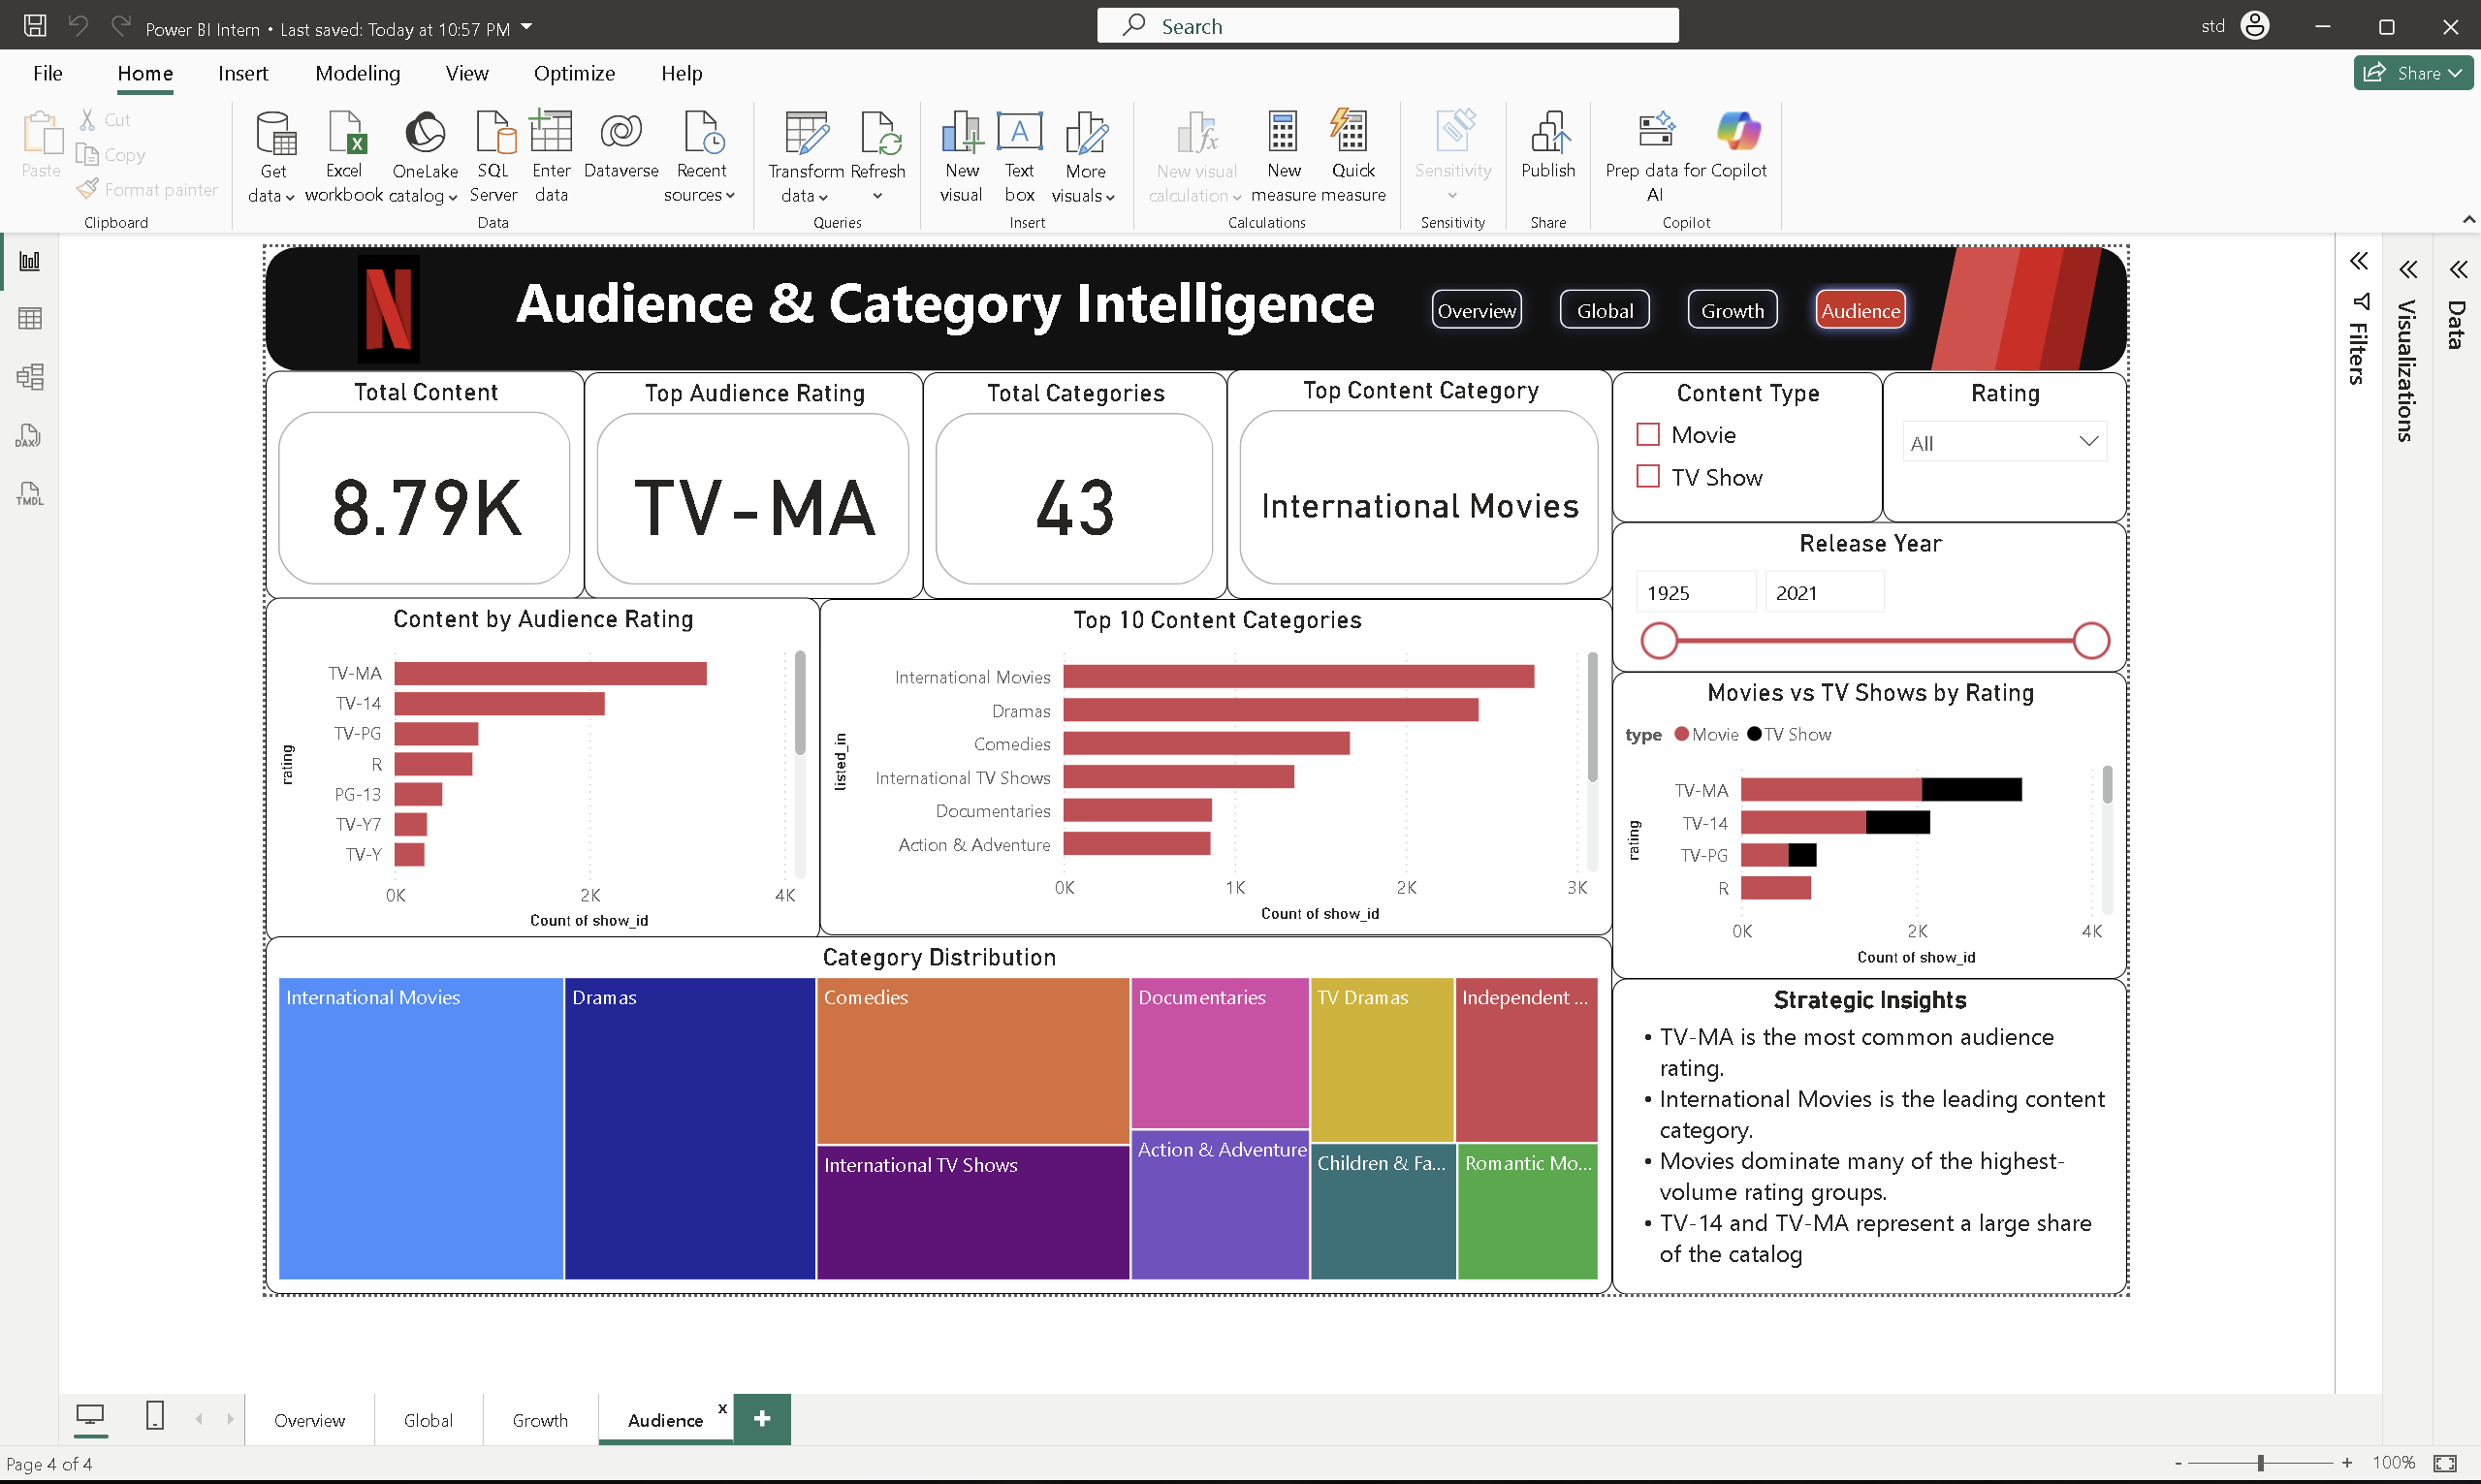

The page's visual inventory and layout, read from the dashboard file:
{"tool":"powerbi","page":{"name":"Audience","canvas":[1280,720],"ordinal":3},"visuals":[{"type":"shape","box":[0,0,1280,85],"z":0},{"type":"textbox","box":[166.7,5.6,667.8,74.6],"z":1000},{"type":"shape","box":[1206.6,0,56.8,85.3],"z":2000},{"type":"shape","box":[1175.8,0,61.6,85.3],"z":3000},{"type":"shape","box":[1145,0,61.6,85.3],"z":4000},{"type":"image","box":[29.6,0,108.9,85.3],"z":5000},{"type":"pageNavigator","box":[794,21,343,43],"z":6000},{"type":"cardVisual","title":"Total Content","fields":{"Data":["Count(AudienceCategories.show_id)"]},"box":[0,85,219,157],"z":7000},{"type":"cardVisual","title":"Top Audience Rating","fields":{"Data":["AudienceCategories.Top Audience Rating"]},"box":[219,86,233,156],"z":8000},{"type":"cardVisual","title":"Top Content Category","fields":{"Data":["AudienceCategories.Top Content Category"]},"box":[661,84,265,158],"z":9000},{"type":"cardVisual","title":"Total Categories","fields":{"Data":["Count(AudienceCategories.listed_in)"]},"box":[452,86,209,156],"z":10000},{"type":"clusteredBarChart","title":"Content by Audience Rating","fields":{"Category":["AudienceCategories.rating"],"Y":["Count(AudienceCategories.show_id)"]},"box":[0,241,381,237],"z":11000},{"type":"clusteredBarChart","title":"Top 10 Content Categories","fields":{"Category":["AudienceCategories.listed_in"],"Y":["Count(AudienceCategories.show_id)"]},"box":[381,242,545,231],"z":12000},{"type":"treemap","title":"Category Distribution","fields":{"Group":["AudienceCategories.listed_in"],"Values":["Count(AudienceCategories.show_id)"]},"box":[0,474,926,246],"z":13000},{"type":"slicer","title":"Rating","fields":{"Values":["AudienceCategories.rating"]},"box":[1112,86,168,103],"z":14000},{"type":"slicer","title":"Release Year","fields":{"Values":["AudienceCategories.release_year"]},"box":[926,189,354,103],"z":15000},{"type":"slicer","title":"Content Type","fields":{"Values":["AudienceCategories.type"]},"box":[926,86,186,103],"z":16000},{"type":"barChart","title":"Movies vs TV Shows by Rating","fields":{"Category":["AudienceCategories.rating"],"Series":["AudienceCategories.type"],"Y":["Count(AudienceCategories.show_id)"]},"box":[926,292,354,211],"z":16001},{"type":"textbox","title":"Strategic Insights","box":[926,503,354,217],"z":16002}]}

Visuals, with their boxes on the page's 1280x720 design canvas (x1, y1, x2, y2). These are canvas units, not pixel positions in the 2481x1484 screenshot, which may show the page scaled, cropped or inside an application window:
shape: bbox(0, 0, 1280, 85)
textbox: bbox(167, 6, 834, 80)
shape: bbox(1207, 0, 1263, 85)
shape: bbox(1176, 0, 1237, 85)
shape: bbox(1145, 0, 1207, 85)
image: bbox(30, 0, 138, 85)
pageNavigator: bbox(794, 21, 1137, 64)
"Total Content" cardVisual: bbox(0, 85, 219, 242)
"Top Audience Rating" cardVisual: bbox(219, 86, 452, 242)
"Top Content Category" cardVisual: bbox(661, 84, 926, 242)
"Total Categories" cardVisual: bbox(452, 86, 661, 242)
"Content by Audience Rating" clusteredBarChart: bbox(0, 241, 381, 478)
"Top 10 Content Categories" clusteredBarChart: bbox(381, 242, 926, 473)
"Category Distribution" treemap: bbox(0, 474, 926, 720)
"Rating" slicer: bbox(1112, 86, 1280, 189)
"Release Year" slicer: bbox(926, 189, 1280, 292)
"Content Type" slicer: bbox(926, 86, 1112, 189)
"Movies vs TV Shows by Rating" barChart: bbox(926, 292, 1280, 503)
"Strategic Insights" textbox: bbox(926, 503, 1280, 720)
